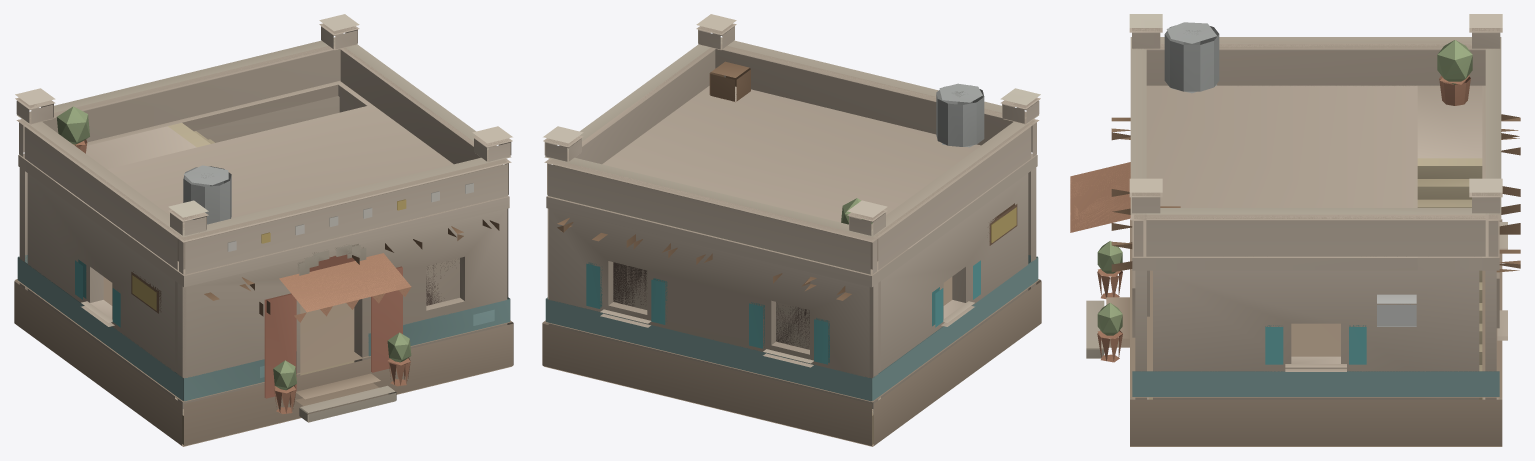
The model's file is house_1.lod.glb.
3 views of the same model, side by side, from view 1: azimuth 30°, elevation 25°; view 2: azimuth 150°, elevation 25°; view 3: azimuth 270°, elevation 25° (orthographic). The views are drawn at different scales.
Parts seen in each view (by area): view 1: house_1; view 2: house_1; view 3: house_1.
Part boxes in pixels (x1=…): house_1: x1=14, y1=14, x2=513, y2=446; house_1: x1=542, y1=14, x2=1041, y2=446; house_1: x1=1070, y1=14, x2=1520, y2=446.
Size of the model in its own units: 9.03 by 6 by 9.07.
